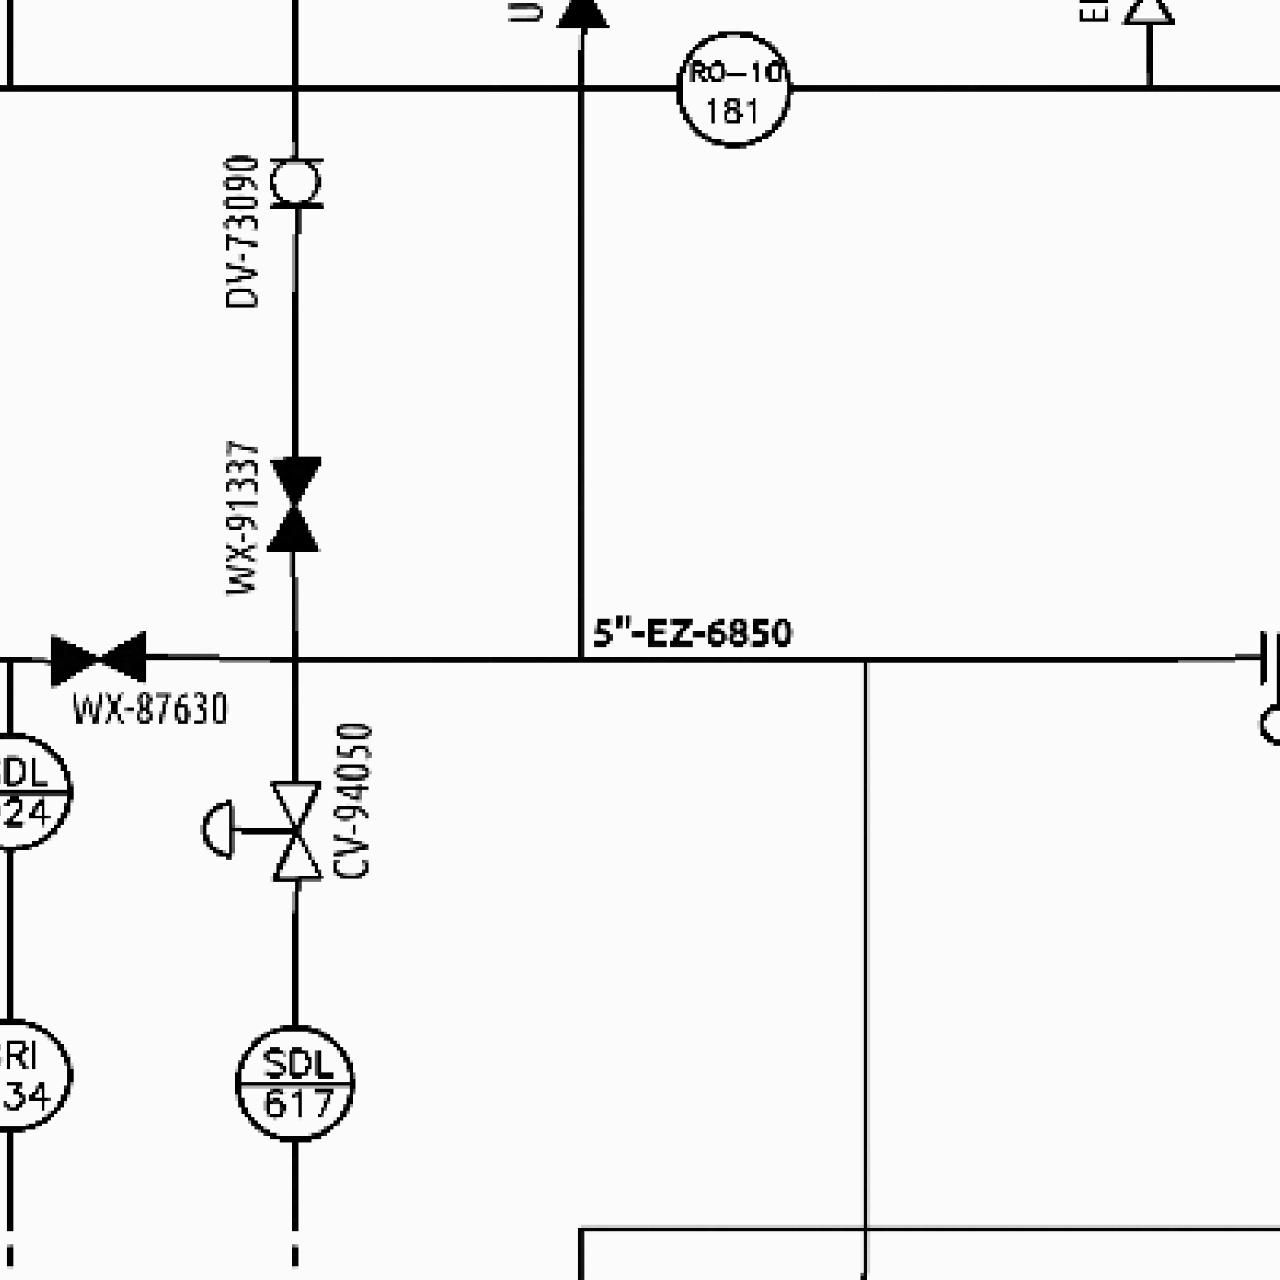Control-Panel: (669, 25, 796, 151)
